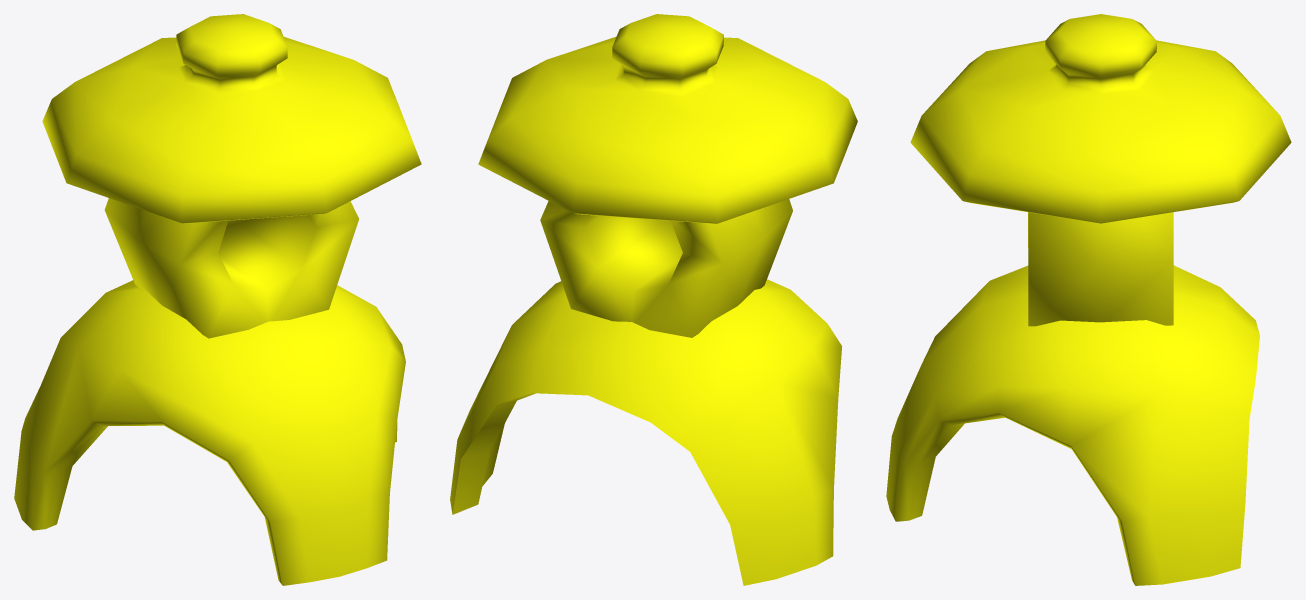
The model's file is Props_Lantern_Lantern_Mid.glb.
3 renders of one model, left to right at view 1: azimuth 30°, elevation 25°; view 2: azimuth 150°, elevation 25°; view 3: azimuth 270°, elevation 25°, orthographic.
Parts seen in each view (by area): view 1: Main Lantern.Mid; view 2: Main Lantern.Mid; view 3: Main Lantern.Mid.
Part boxes in pixels (x1,y1,x2,y2): Main Lantern.Mid: (14, 14, 421, 585); Main Lantern.Mid: (450, 14, 857, 585); Main Lantern.Mid: (886, 14, 1291, 585).
Size of the model in its own units: 0.4483 by 0.555 by 0.4333.
Materials: 1 (1 with a texture image).
